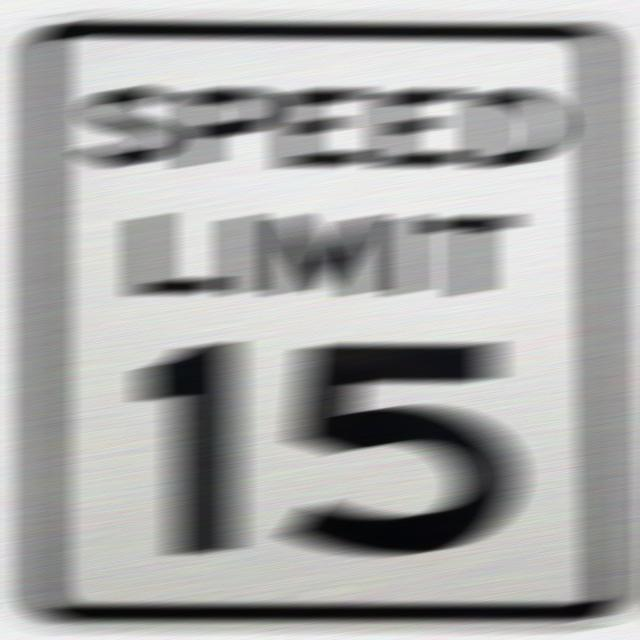speedLimit15: (17, 15, 631, 621)
